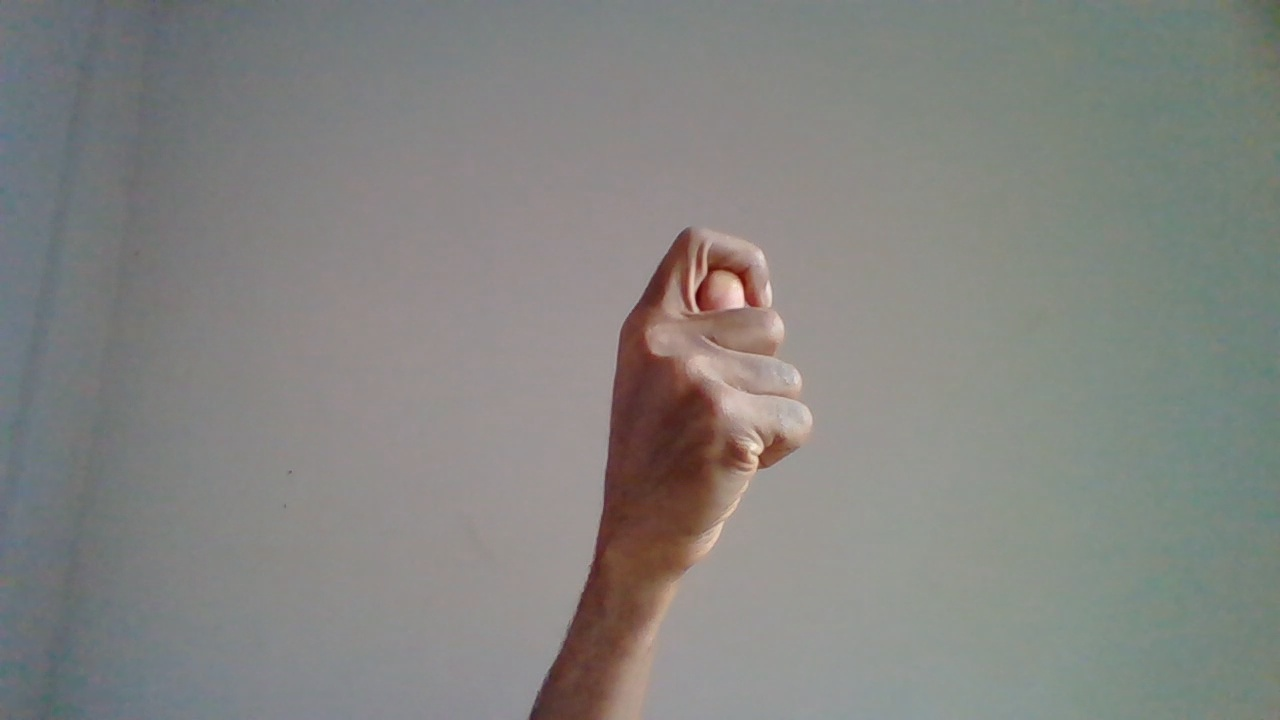che: (596, 225, 824, 629)
